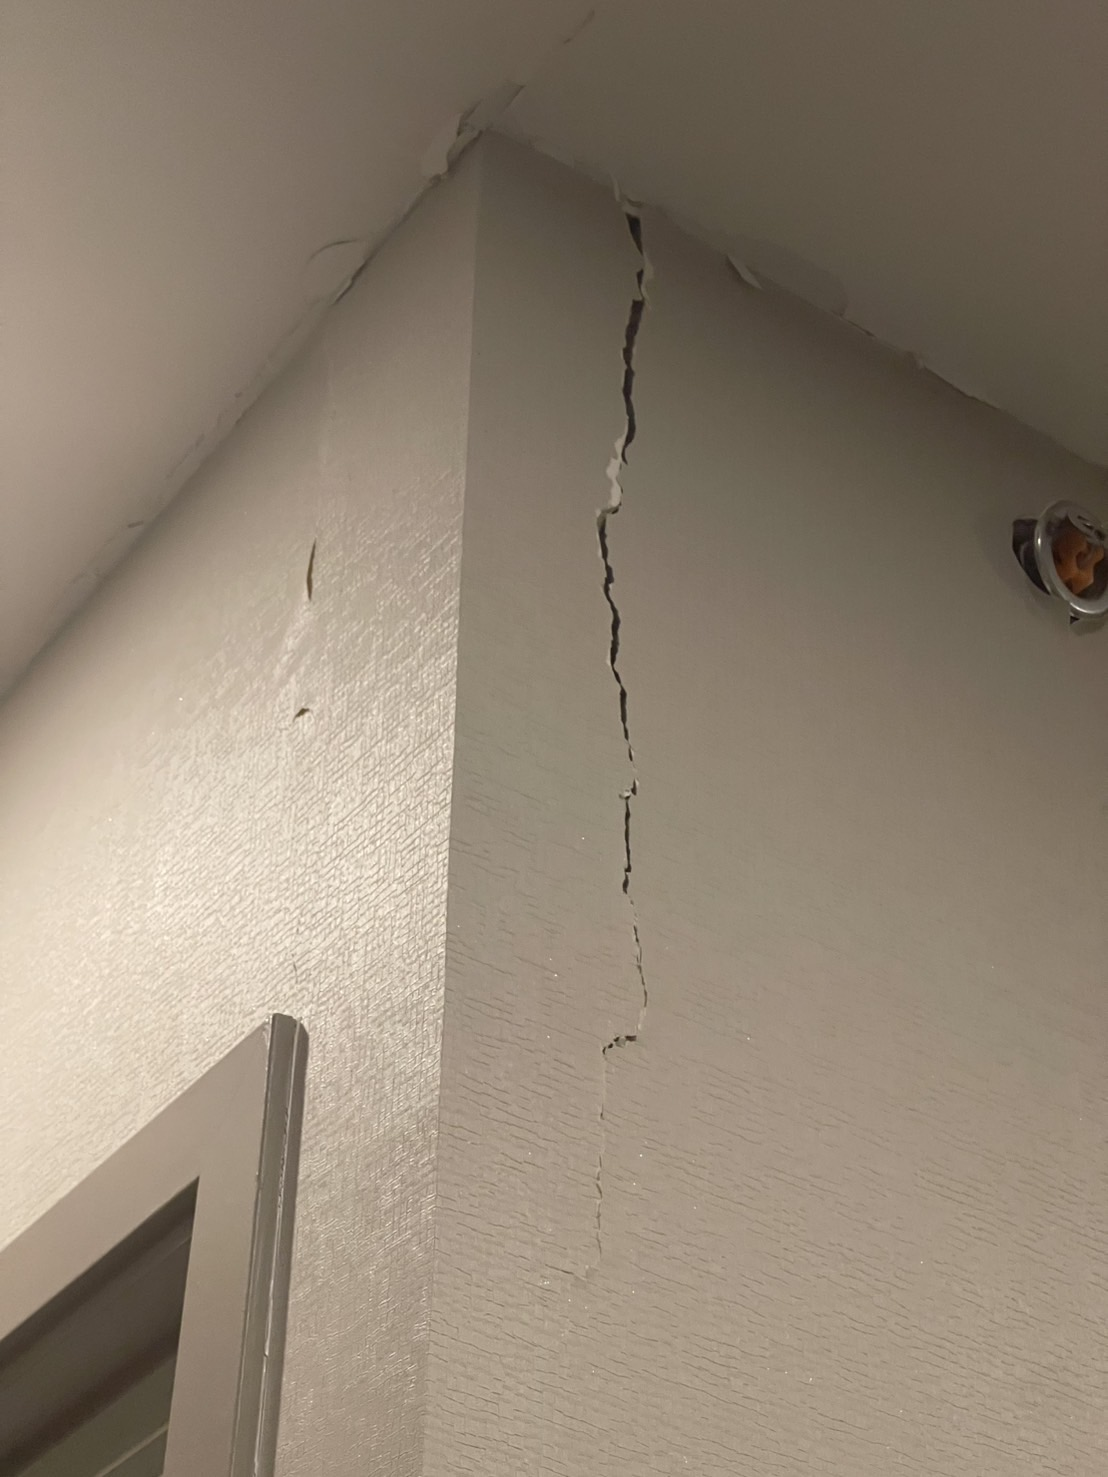Medium: (561, 208, 696, 1094)
